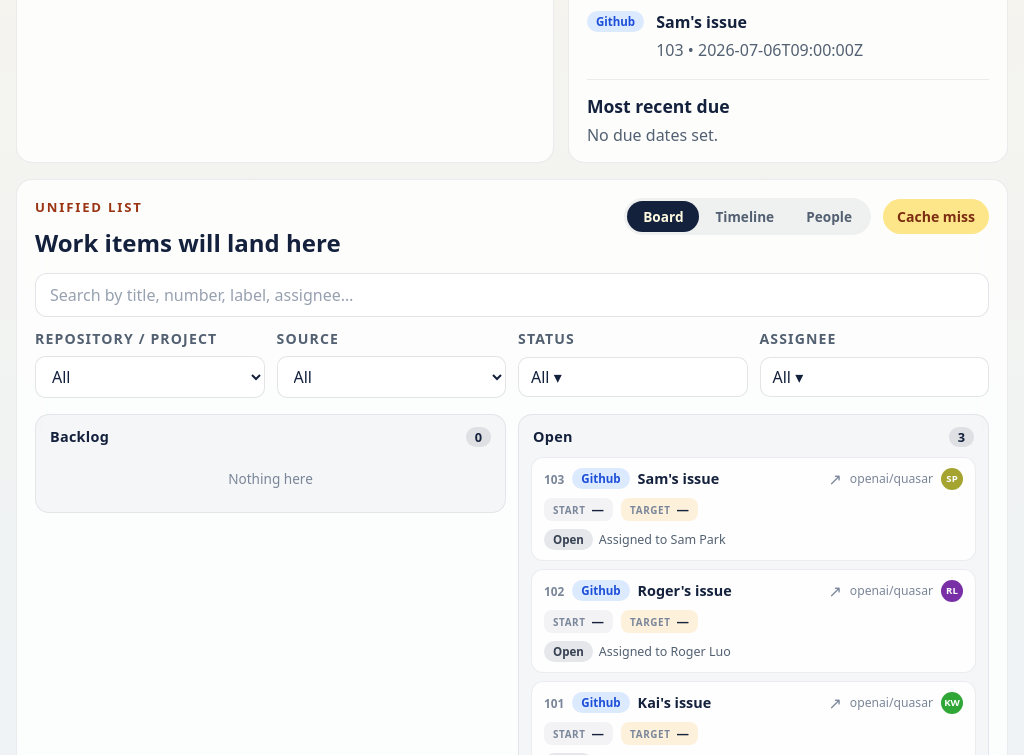
Test: App shell › shows items assigned to ANY selected assignee (OR semantics)
The width and height of the screenshot is (1024, 755).
(page scrolled)
Expected: the button "Kai's issue" is shown, [638,694,820,712]
Click the button named "Assignee" at (874, 377), box [760,357,989,397]
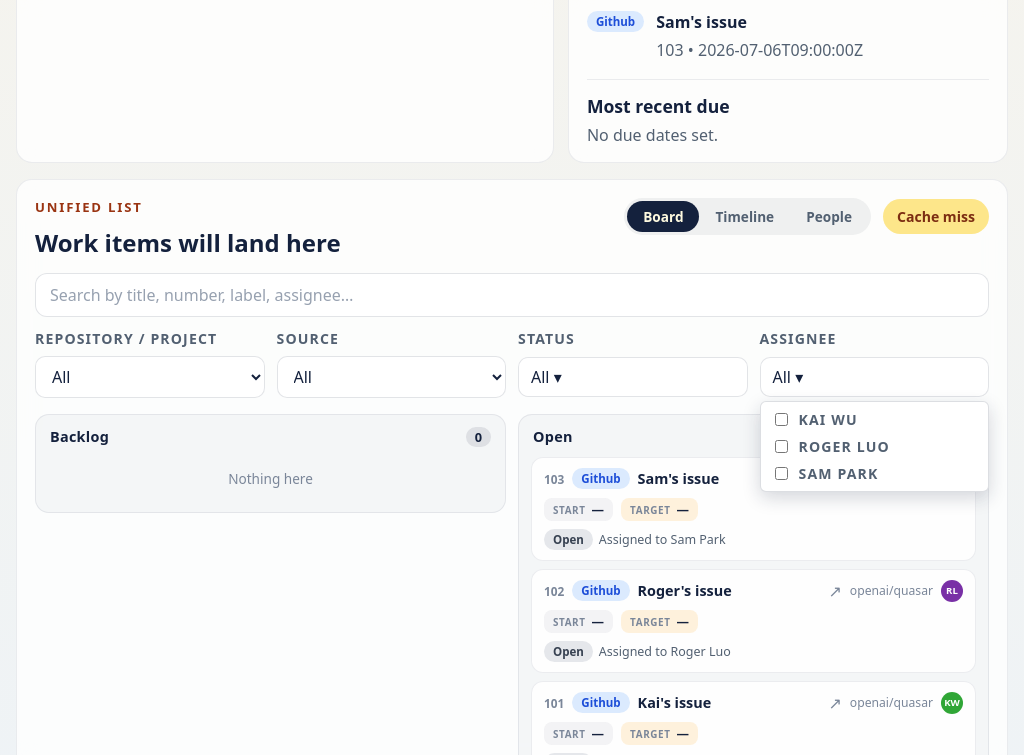
Click the checkbox labelled "Kai Wu" at (781, 419), box [774,413,788,426]
(page scrolled)
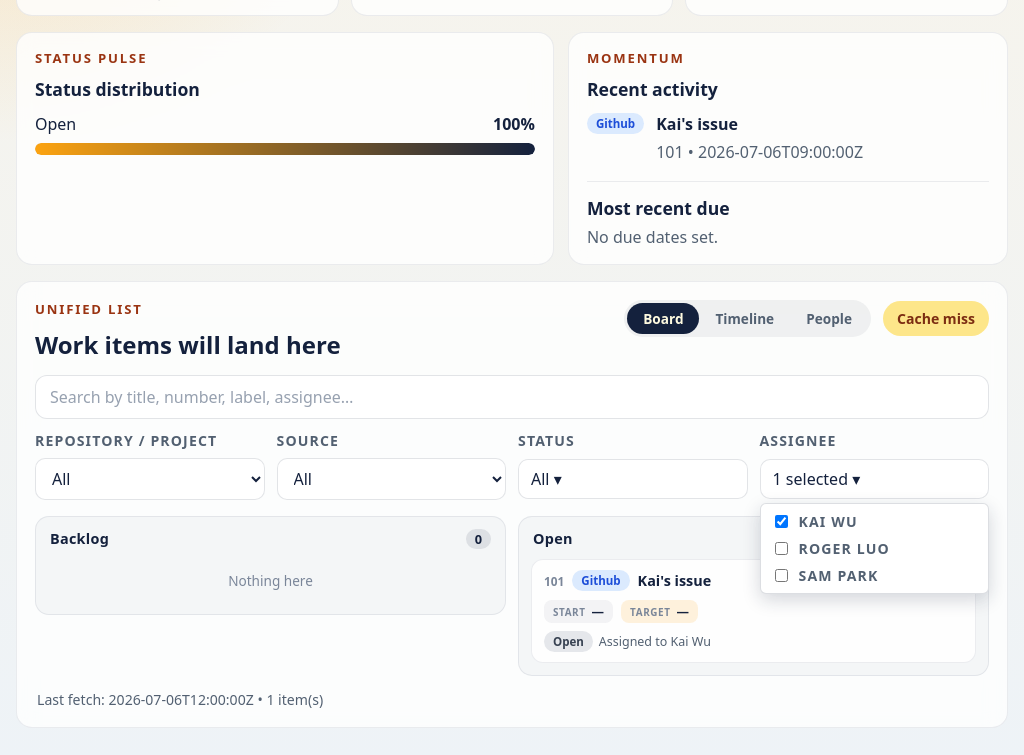
Click the checkbox labelled "Roger Luo" at (781, 548), box [774,542,788,555]
(page scrolled)
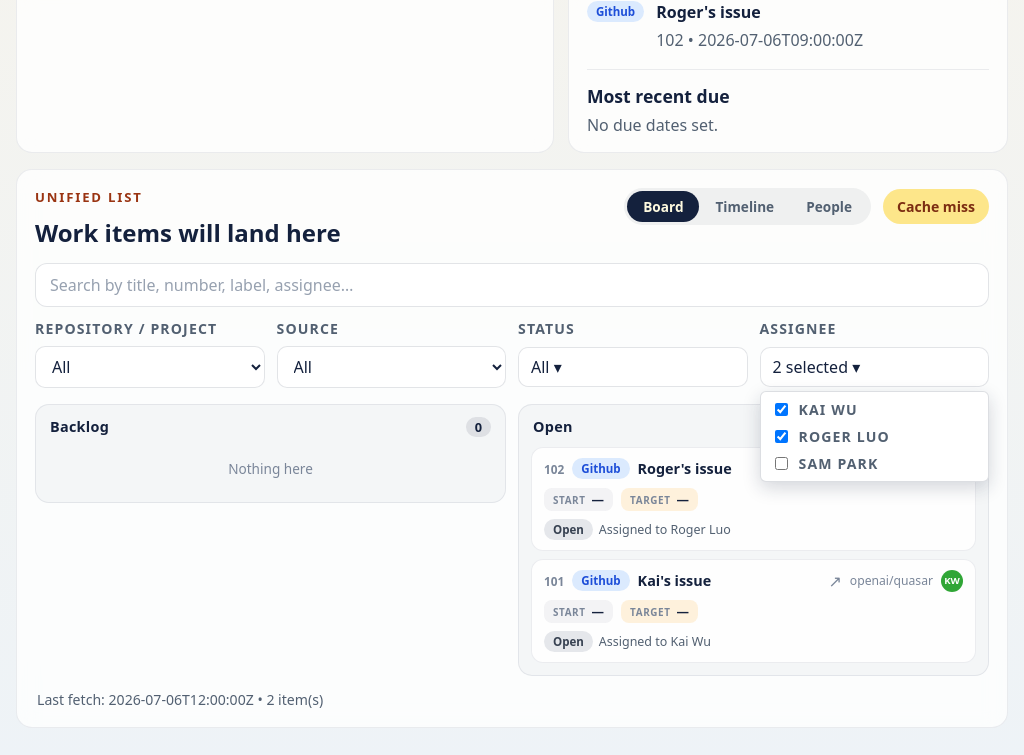
Expected: the button "Kai's issue" is shown, [638,572,820,590]
Expected: the button "Roger's issue" is shown, [638,460,820,478]
